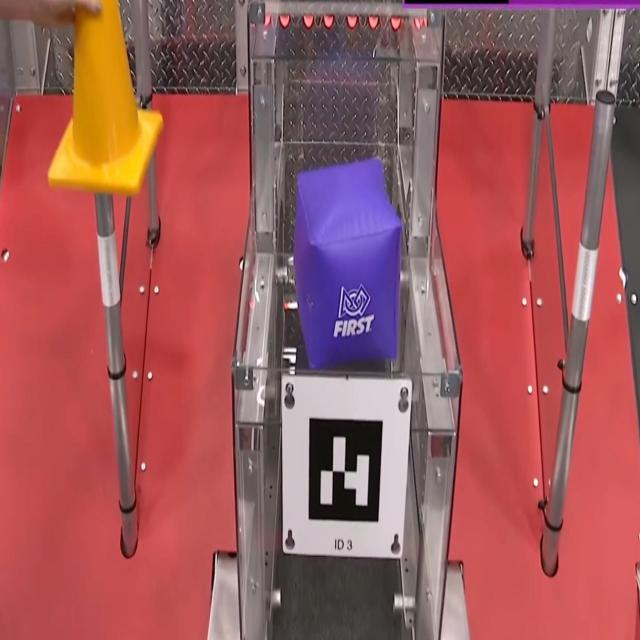frc_cone: (47, 2, 165, 196)
frc_cube: (289, 158, 402, 372)
